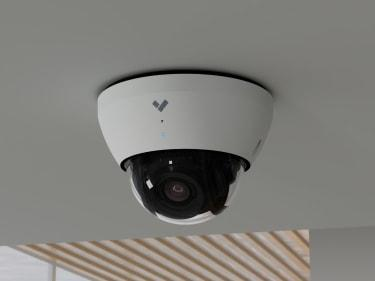360-Cam: (93, 70, 282, 229)
